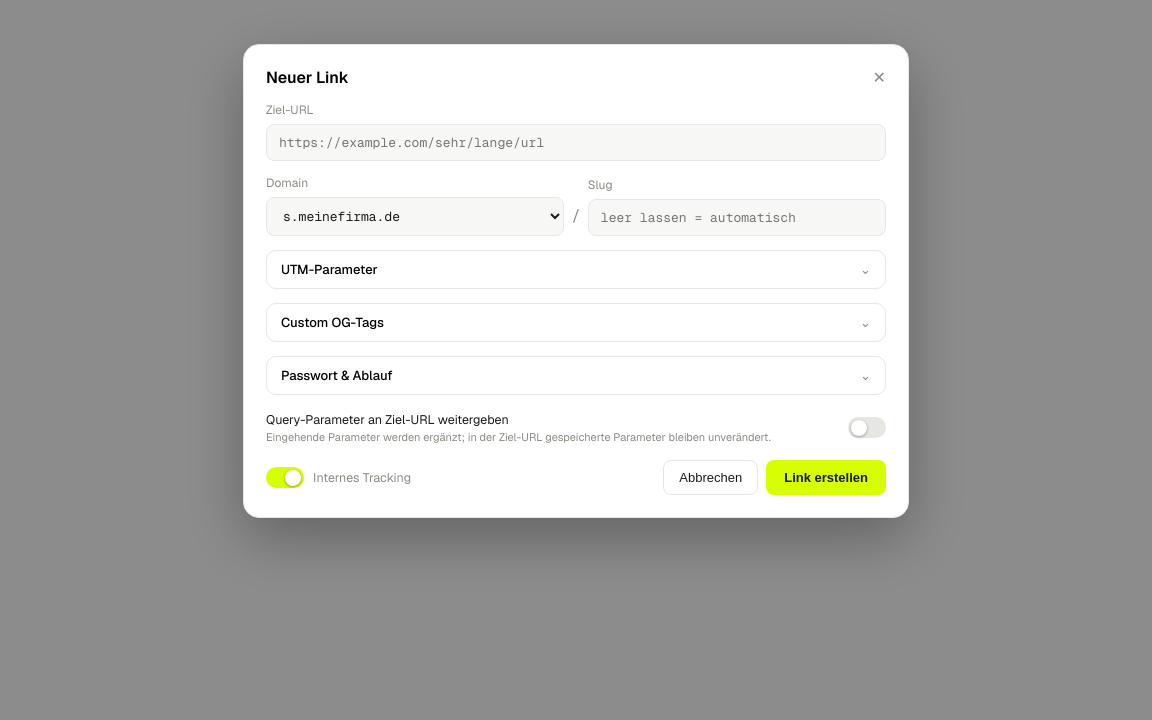
Test: LinkFormModal › accordion shell (Phase 8, UI-08-01/02/04) › the section header exposes role=button, tabindex=0, and aria-expanded tracking open state
Click the button with class "accordion-header--sec": (337, 376) left=281, top=367, right=871, bottom=384
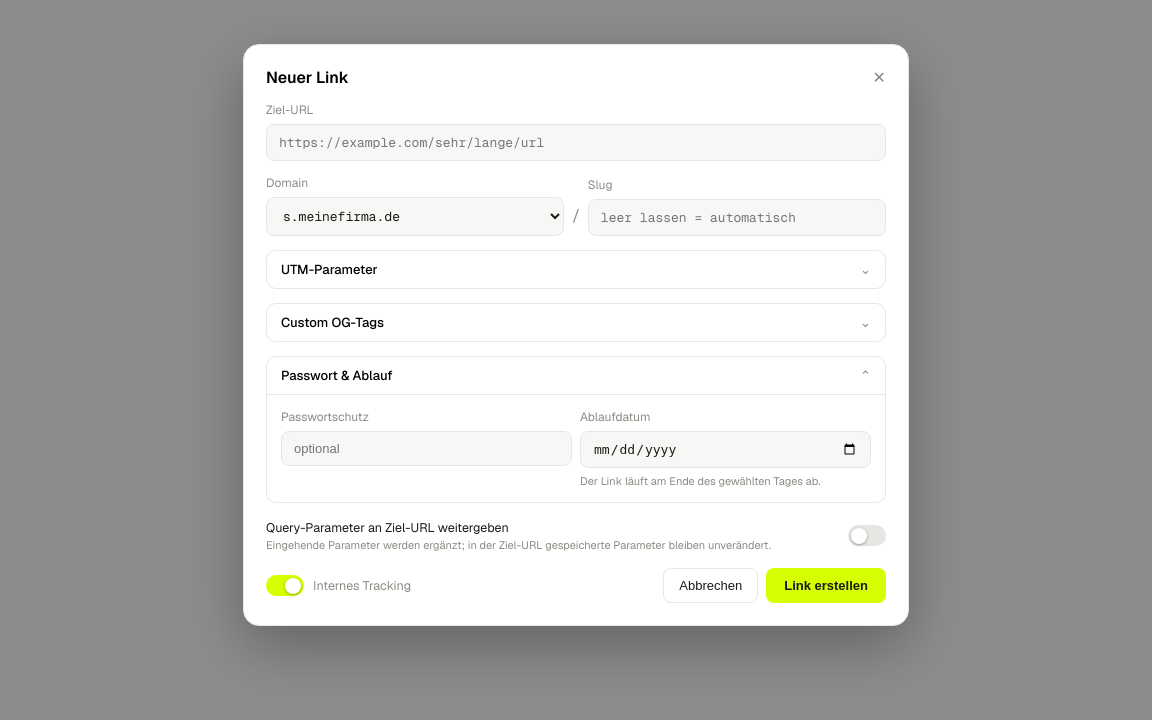
Result: the button with class "accordion-header--sec" is expanded at left=281, top=367, right=871, bottom=384
